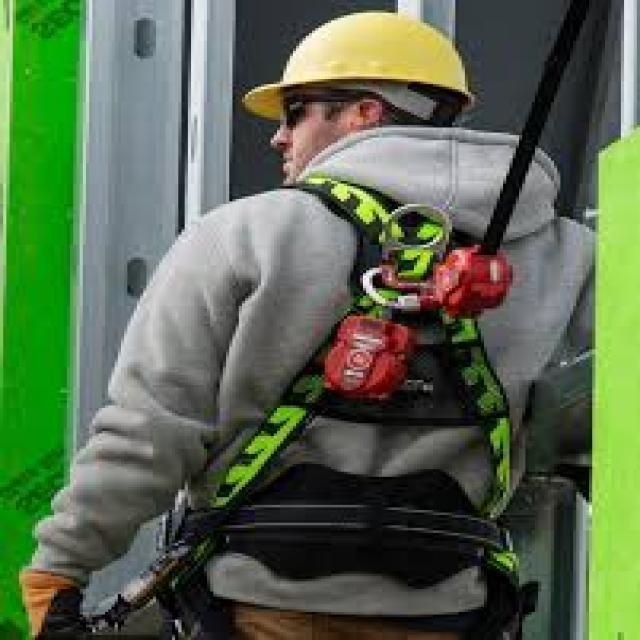Arnes_seguridad: (258, 158, 534, 611)
